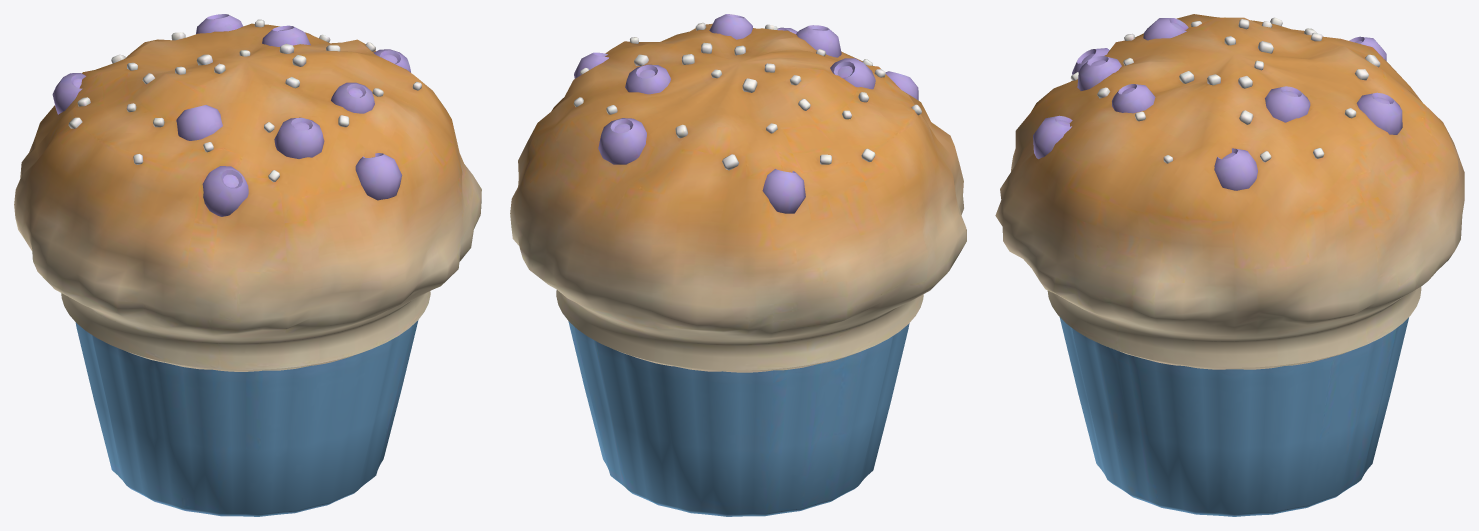
Rendered from magdalena.glb.
3 views of the same model, side by side, from view 1: azimuth 30°, elevation 25°; view 2: azimuth 150°, elevation 25°; view 3: azimuth 270°, elevation 25° (orthographic).
Parts seen in each view (by area): view 1: muffin_body; view 2: muffin_body; view 3: muffin_body.
Boxes of the visible parts, x1,y1,x2,y2 form: muffin_body: (14,14,481,516); muffin_body: (510,14,966,516); muffin_body: (995,14,1464,516).
Size of the model in its own units: 0.0894 by 0.086 by 0.0892.
1 material, 1 textured.
